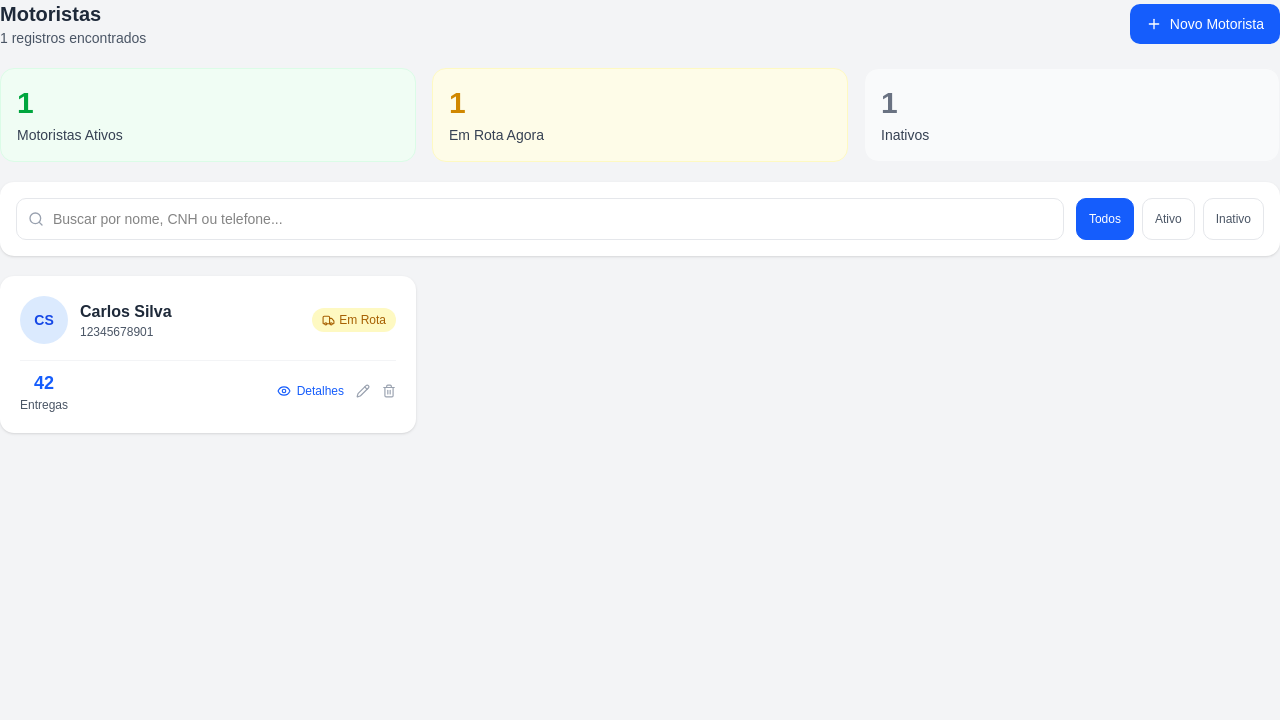
Motoristas › exibe a mensagem de erro da API quando a exclusão é bloqueada (RN03)
Check: the text "Carlos Silva" is shown, box [80,300,172,324]
Click the button named "Excluir Carlos Silva".
click(389, 391)  # box [382,384,396,398]
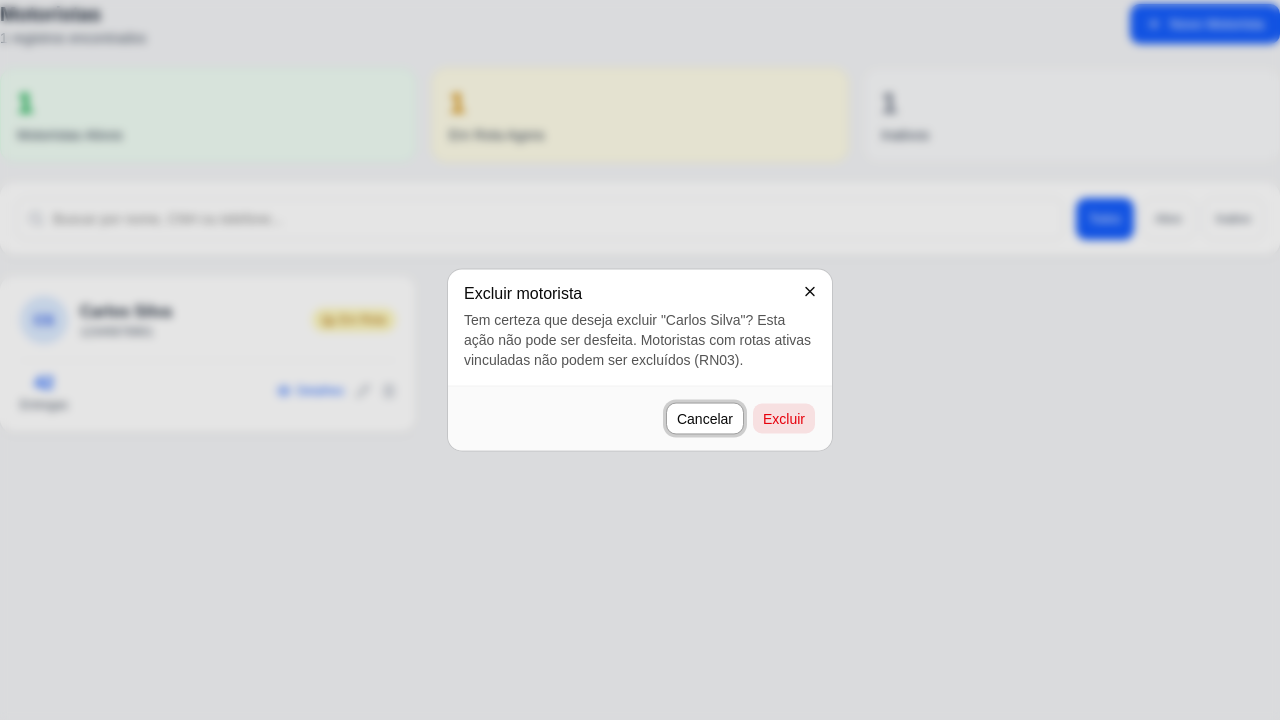
Click the button "Excluir".
click(784, 418)  # box [752,402,816,434]
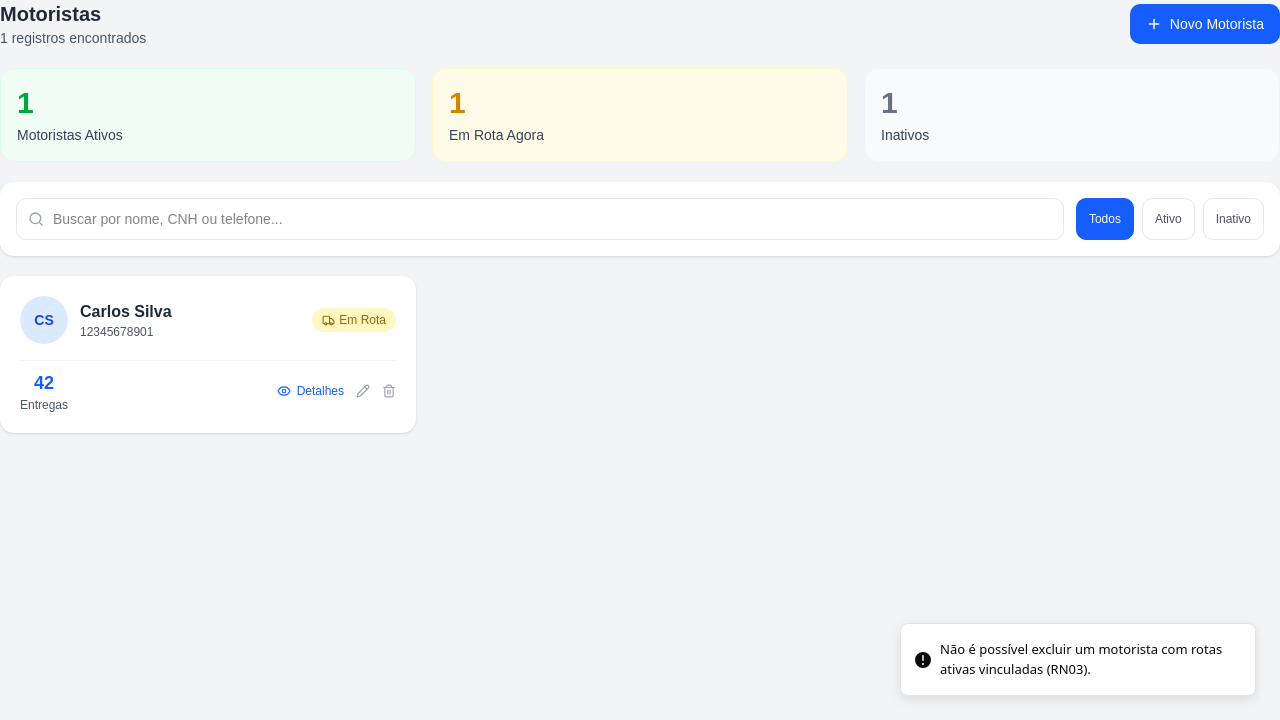
Check: the text "Não é possível excluir um motorista com rotas ativas vinculadas (RN03)." is shown, box [940,640,1239,679]
